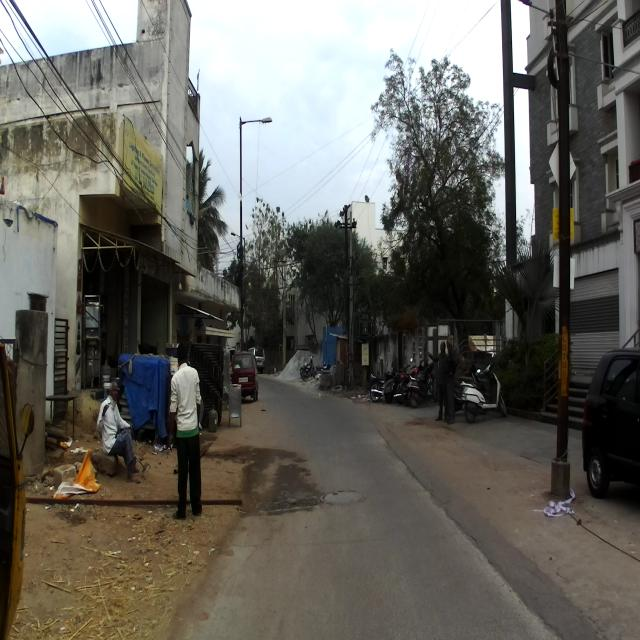electric pole ahead at: (542, 0, 576, 511)
person ahead at: (161, 346, 210, 531)
